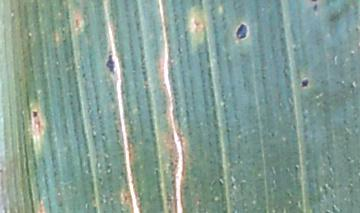tarspot: (105, 55, 117, 74), (237, 24, 249, 41), (31, 109, 39, 118), (302, 78, 309, 88), (312, 3, 318, 12)
